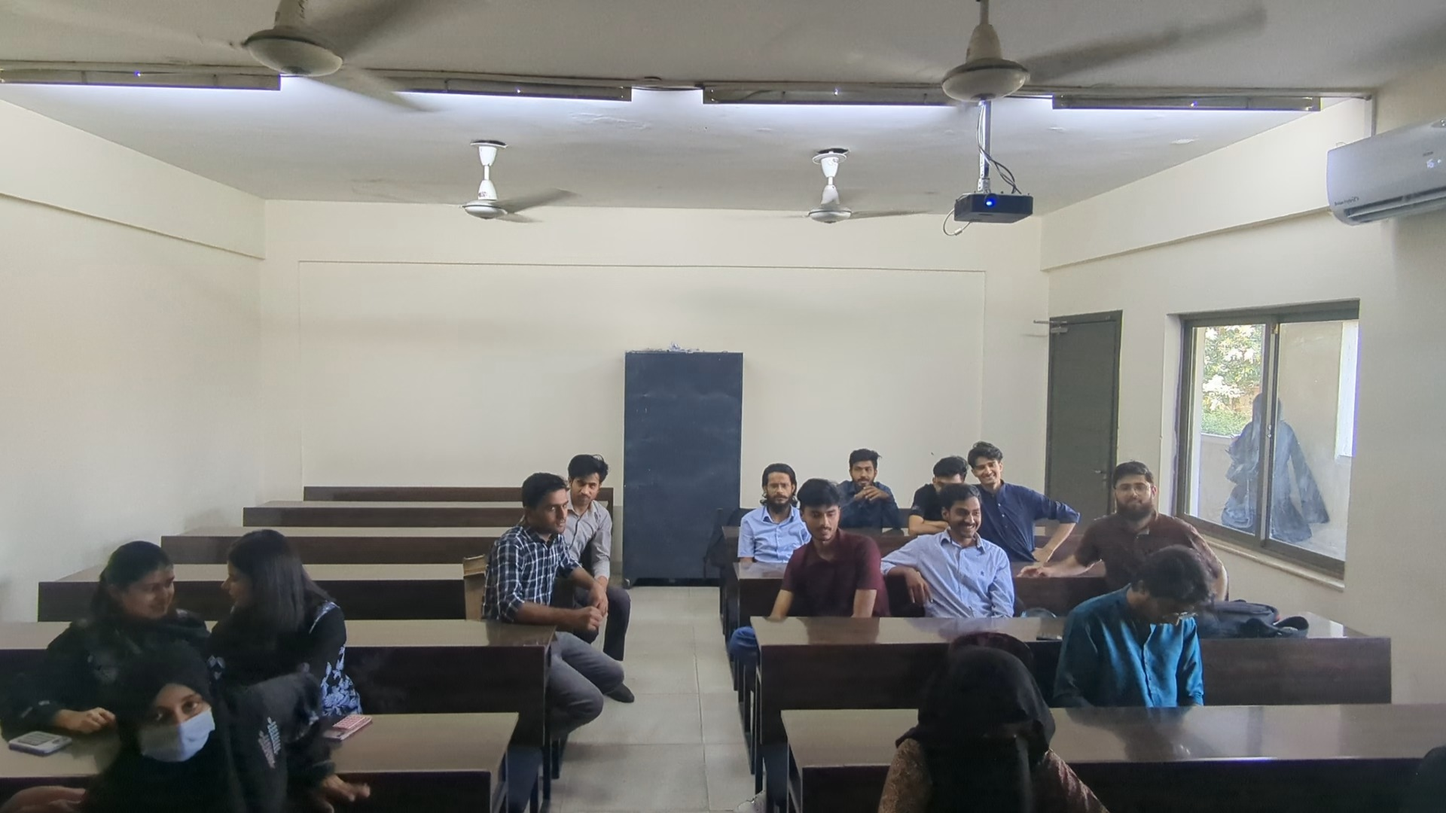look_forward: (1104, 457, 1203, 569), (137, 659, 224, 762), (745, 437, 799, 571), (800, 480, 853, 596), (976, 429, 1032, 536), (837, 441, 898, 536), (935, 482, 993, 574), (570, 454, 614, 539)
sleep: (915, 658, 1053, 808)
turn_head: (226, 511, 321, 675), (79, 535, 195, 664), (491, 477, 572, 630)
using_device: (1107, 552, 1211, 712)
